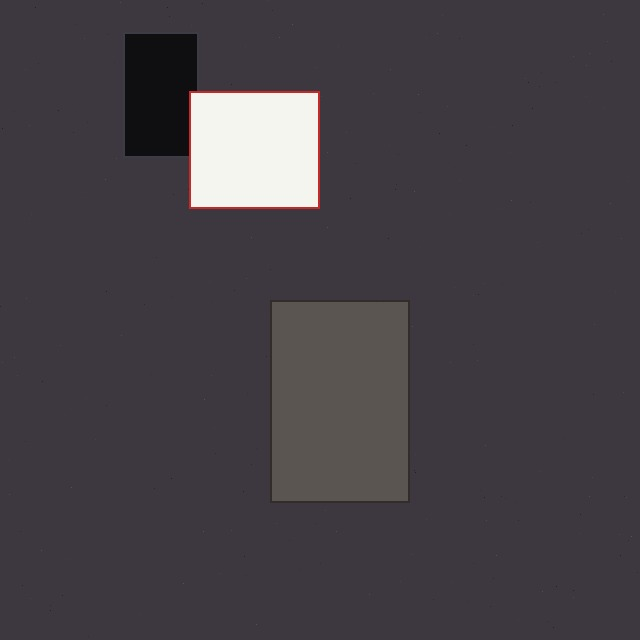book: (189, 91, 319, 208)
concrete_damage: (270, 300, 409, 502)
phone: (123, 32, 273, 157)
